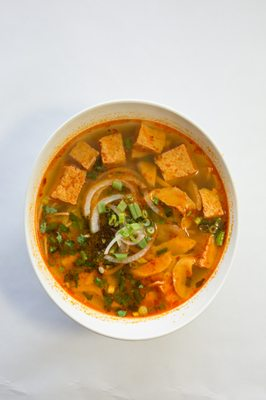sushi: (24, 101, 239, 345)
